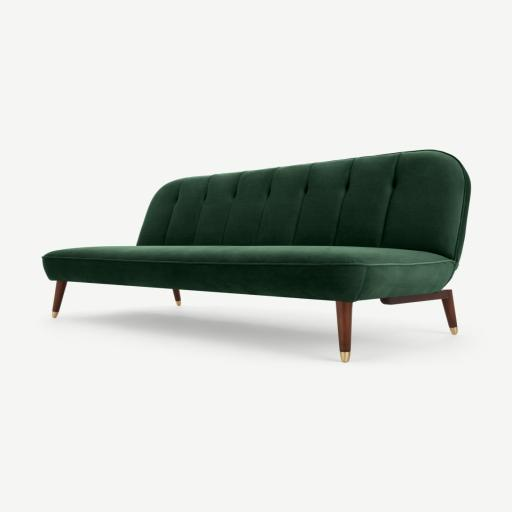back_cushion: (137, 150, 468, 258)
legs: (418, 290, 457, 334), (336, 302, 352, 362), (52, 281, 67, 318), (173, 289, 180, 305)
one-seater: (43, 150, 470, 362)
seat_cushion: (43, 246, 454, 301)
